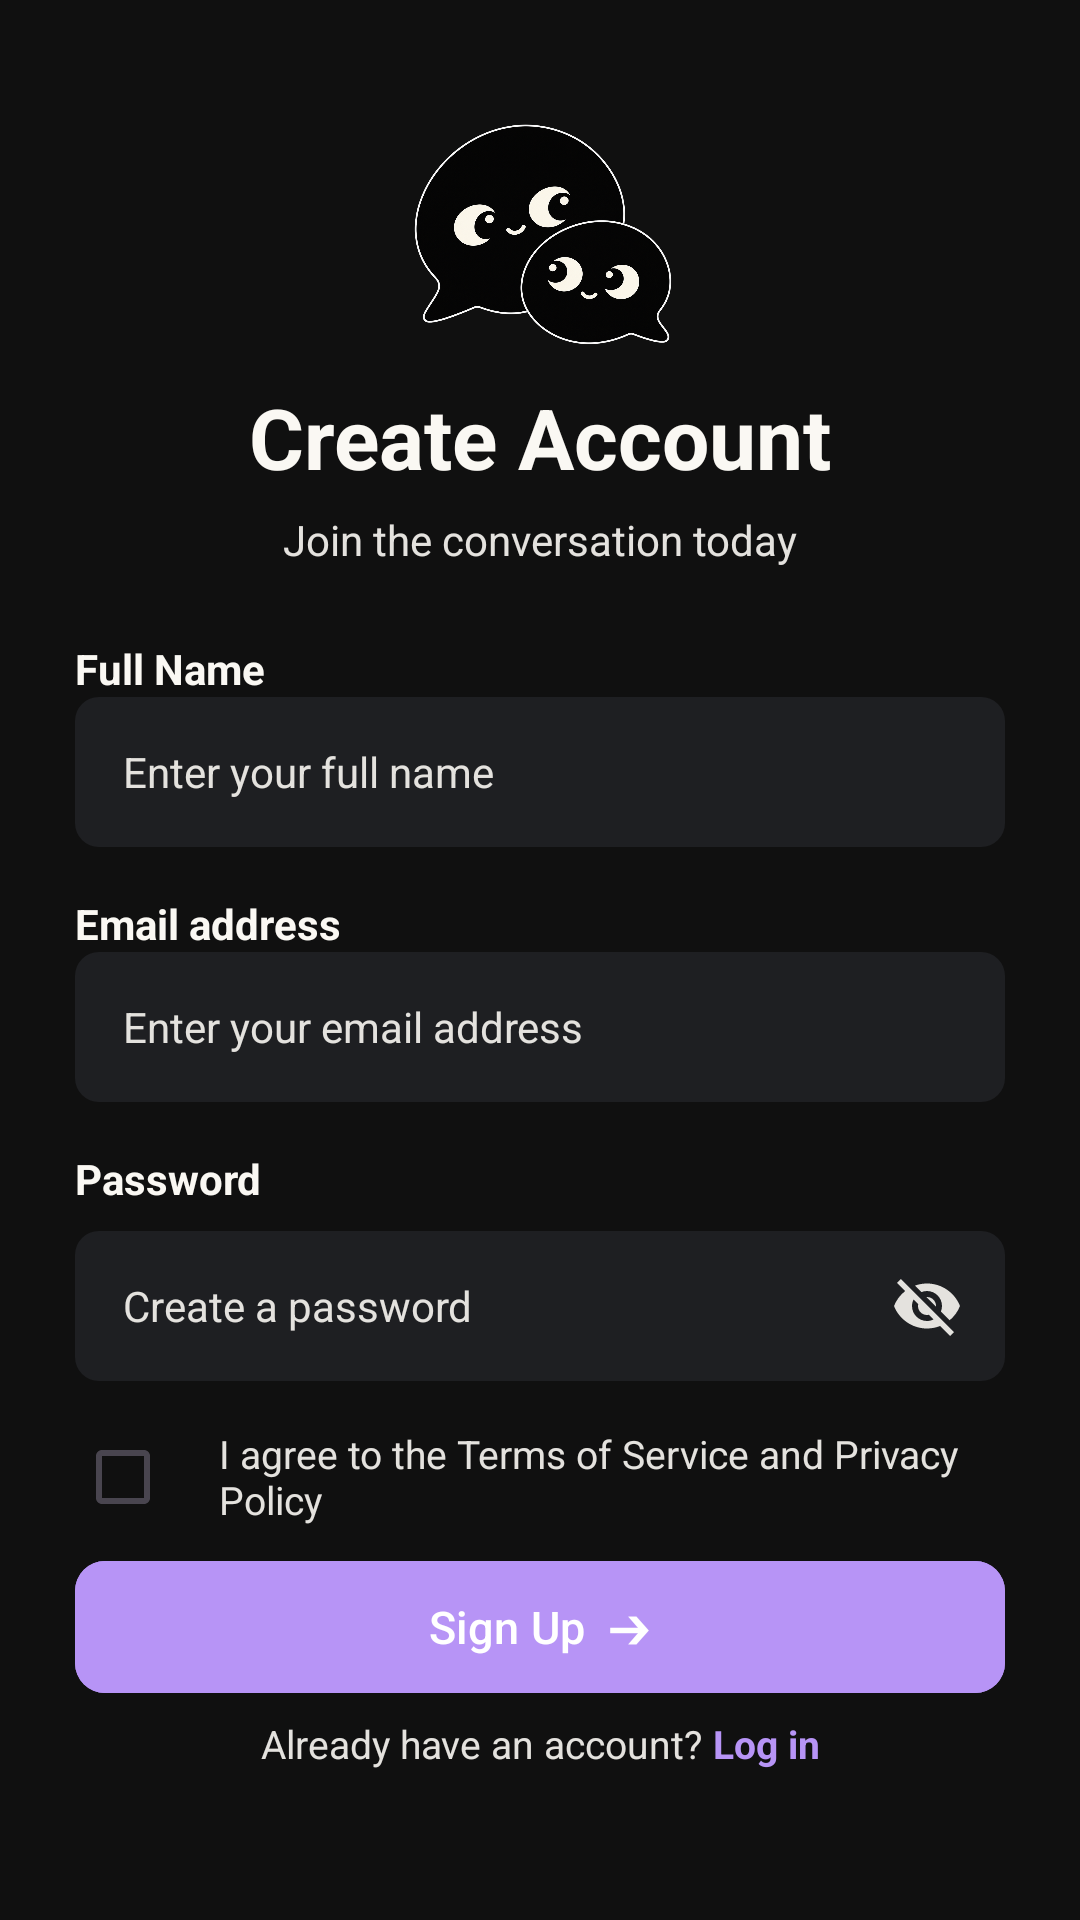

Where icons sit on this 1080px×1920px app screen, as bbox(x1, y1, x2, y2):
Toggle password visibility: bbox(894, 1279, 960, 1336)
